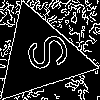S: (15, 31, 71, 77)
